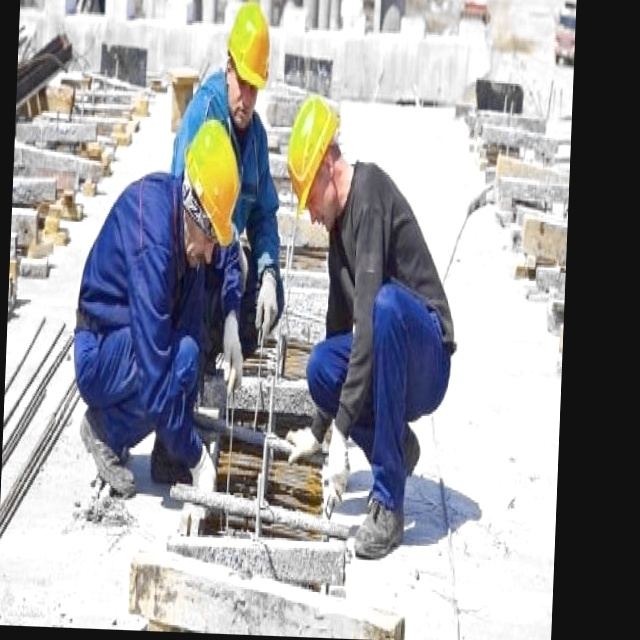Con_Casco: (283, 96, 343, 223), (223, 2, 271, 121)
